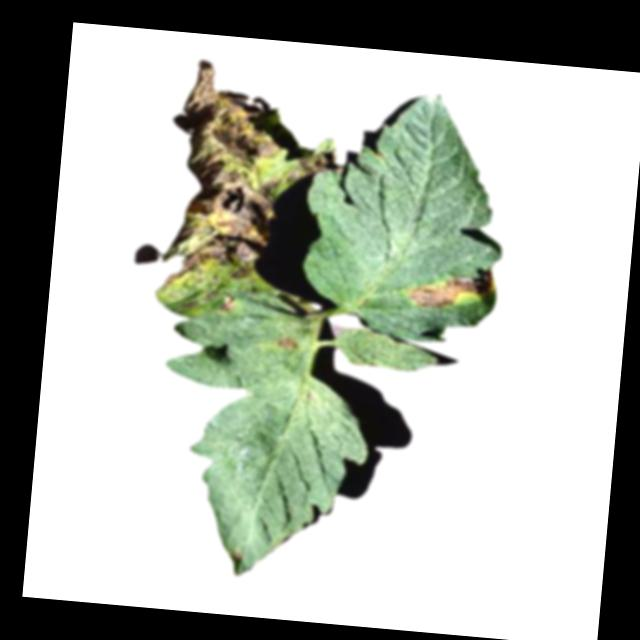Early_blight: (156, 57, 351, 320), (404, 255, 503, 318), (275, 335, 299, 349)
